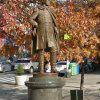Statue: (25, 2, 68, 85)
